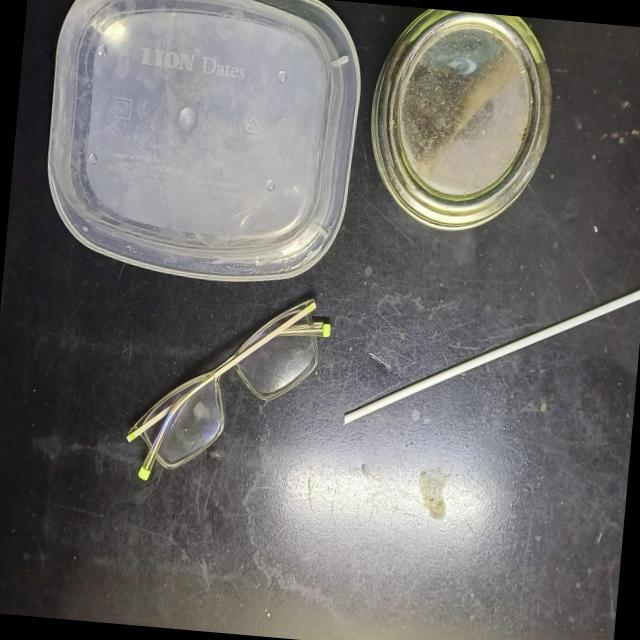Plastic-NonBio: (33, 0, 373, 298)
Spectacles-NonBio: (120, 279, 338, 500)
Steel-NonBio: (356, 4, 562, 242)
Straw-NonBio: (339, 253, 640, 452)
